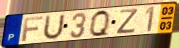1: (144, 6, 155, 34)
3: (69, 11, 88, 39)
F: (21, 15, 45, 42)
Q: (89, 8, 111, 38)
U: (41, 13, 66, 42)
Z: (115, 8, 140, 35)
